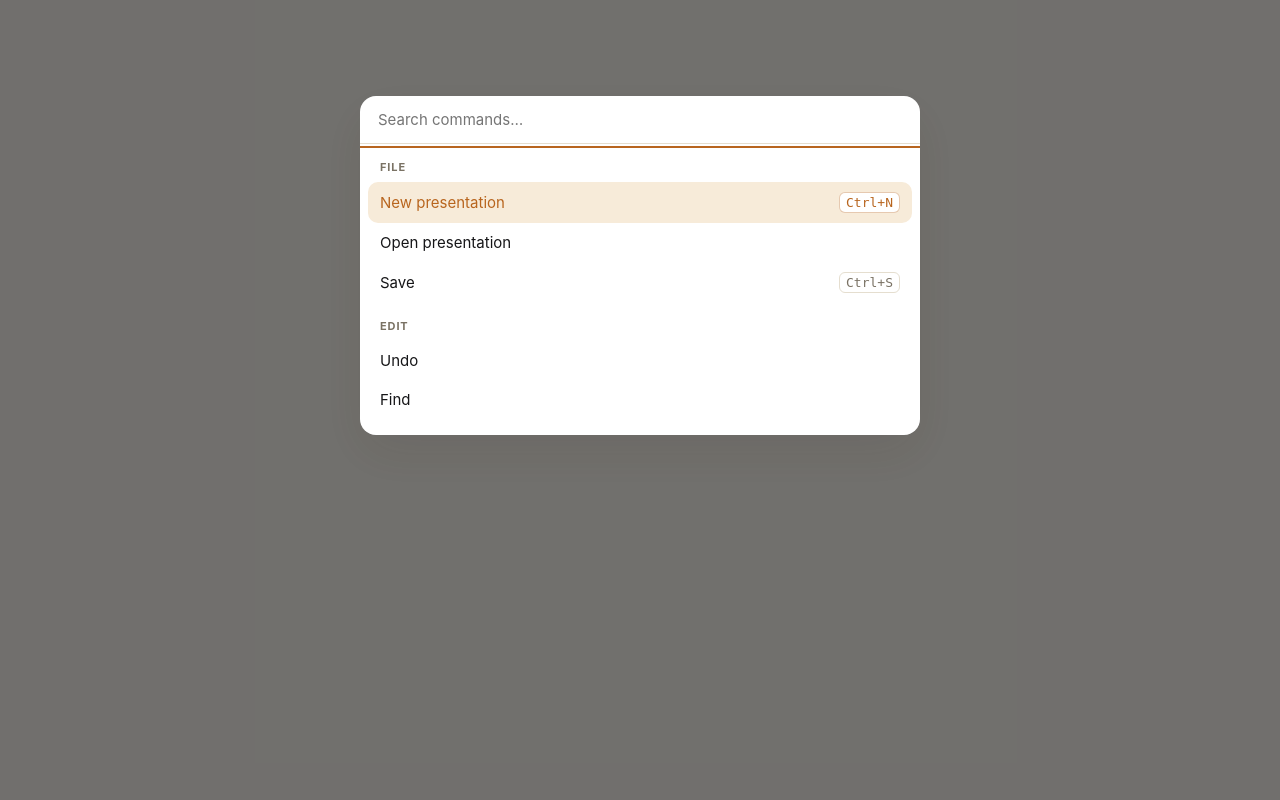
Test: CommandPalette › filters commands when typing
Type "open" into the field with placeholder "Search commands…".
click(640, 120); type("open")  # box x1=360 y1=96 x2=920 y2=144
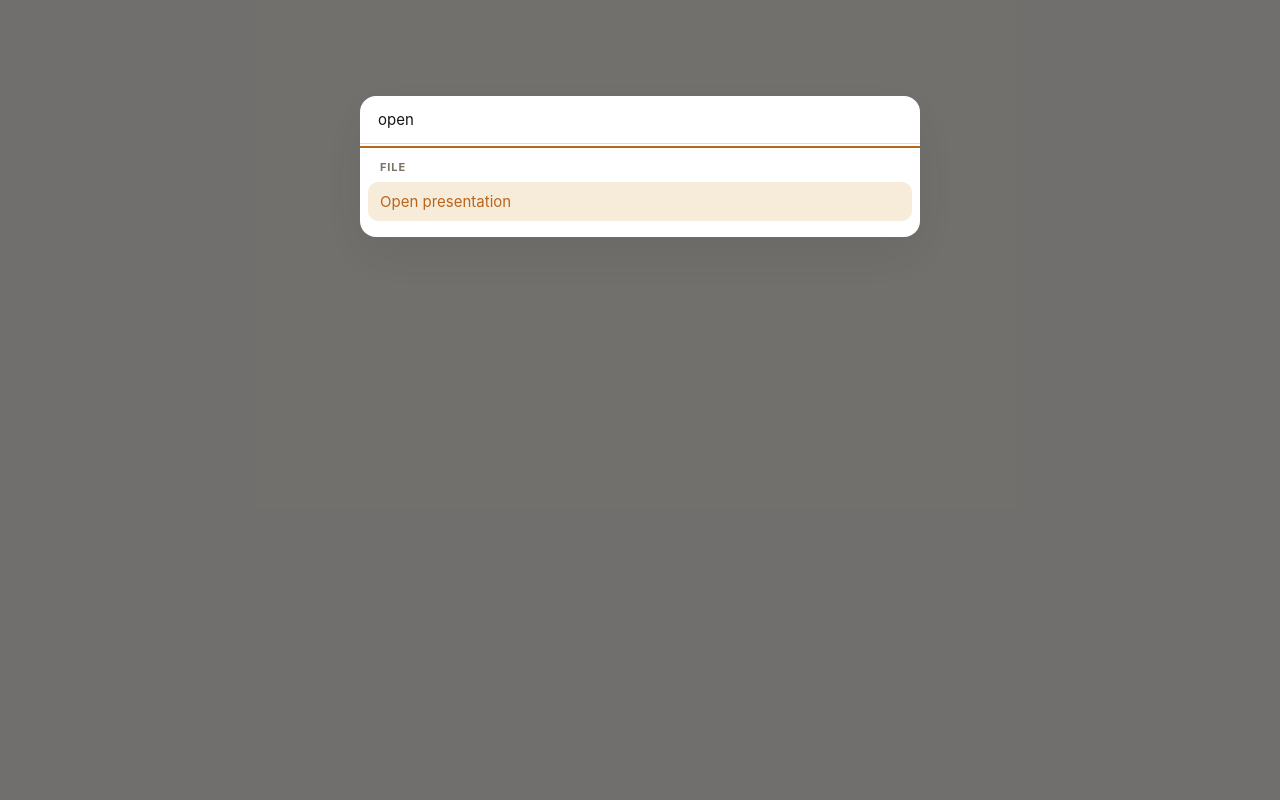
Expected: the text "Open presentation" is shown, x1=380 y1=192 x2=511 y2=211
Now the option "New presentation" is gone
Now the option "Save" is gone
